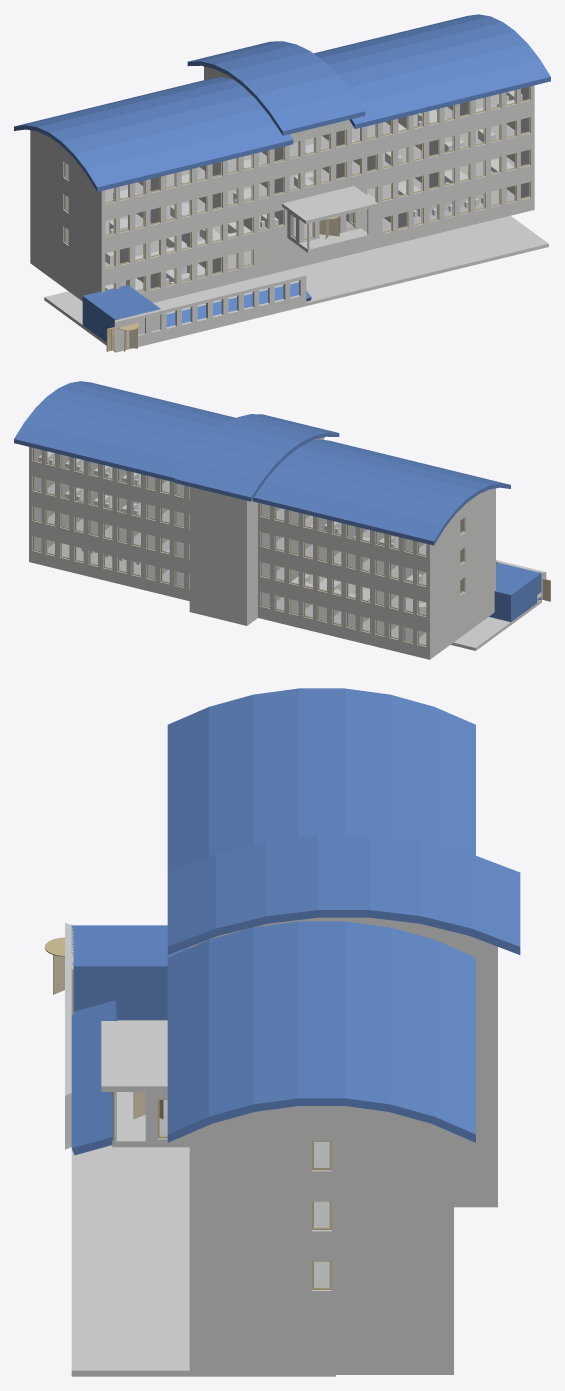
Rendered from hospital.dae.
3 views of the same model, one above another, from view 1: azimuth 30°, elevation 25°; view 2: azimuth 150°, elevation 25°; view 3: azimuth 270°, elevation 25° (orthographic). The views are drawn at different scales.
Visible parts, largest first — view 1: IfcSlabType/Stahlbeton 2747937872 300, IfcWallStandardCase/Wand-010.002, IfcWallStandardCase/Wand-010.001, IfcWallStandardCase/Wand-010.004, IfcSlab/Decke-001.001, IfcSlab/Dach-001.005, IfcSlab/Dach-001.018, IfcWallType/Kalksandstein 2816491304 300, IfcWallStandardCase/Wand-010, IfcSlab/Decke-001, IfcSlab/Decke-002.001, IfcSlab/Dach-001.004 (+26 smaller); view 2: IfcSlab/Dach-001.019, IfcSlab/Dach-001.012, IfcWallStandardCase/Wand-002.002, IfcWallStandardCase/Wand-002.001, IfcWallStandardCase/Wand-002, IfcWallStandardCase/Wand-006.002, IfcWallStandardCase/Wand-006.001, IfcWallStandardCase/Wand-006, IfcSlab/Dach-001, IfcSlab/Decke-002, IfcSlab/Dach-001.013, IfcSlab/Dach-001.001 (+30 smaller); view 3: IfcSlabType/Stahlbeton 2747937872 300, IfcWallStandardCase/Wand-007, IfcWallStandardCase/Wand-007.003, IfcWallStandardCase/Wand-007.002, IfcWallStandardCase/Wand-007.001, IfcSlab/Dach-001.015, IfcSpaceType/Büroarbeit, IfcSlab/Dach-001.014, IfcSlab/Dach-001.016, IfcSlab/Dach-001.017, IfcSlab/Dach-001.013, IfcSlab/Dach-001.018 (+30 smaller).
Part boxes in pixels (left/top/right/bottom): IfcSlabType/Stahlbeton 2747937872 300: left=44, top=216, right=548, bottom=352; IfcWallStandardCase/Wand-010.002: left=101, top=113, right=534, bottom=247; IfcWallStandardCase/Wand-010.001: left=101, top=177, right=534, bottom=300; IfcWallStandardCase/Wand-010.004: left=101, top=85, right=534, bottom=214; IfcSlab/Decke-001.001: left=30, top=124, right=534, bottom=250; IfcSlab/Dach-001.005: left=85, top=123, right=293, bottom=191; IfcSlab/Dach-001.018: left=349, top=59, right=550, bottom=128; IfcWallType/Kalksandstein 2816491304 300: left=116, top=275, right=306, bottom=349; IfcWallStandardCase/Wand-010: left=101, top=207, right=287, bottom=279; IfcSlab/Decke-001: left=30, top=157, right=534, bottom=282; IfcSlab/Decke-002.001: left=30, top=94, right=534, bottom=218; IfcSlab/Dach-001.004: left=73, top=108, right=274, bottom=172; IfcSlab/Dach-001.019: left=252, top=481, right=444, bottom=545; IfcSlab/Dach-001.012: left=14, top=422, right=185, bottom=482; IfcWallStandardCase/Wand-002.002: left=258, top=528, right=429, bottom=596; IfcWallStandardCase/Wand-002.001: left=258, top=558, right=429, bottom=626; IfcWallStandardCase/Wand-002: left=258, top=588, right=429, bottom=656; IfcWallStandardCase/Wand-006.002: left=29, top=472, right=189, bottom=538; IfcWallStandardCase/Wand-006.001: left=29, top=502, right=189, bottom=568; IfcWallStandardCase/Wand-006: left=29, top=532, right=189, bottom=597; IfcSlab/Dach-001: left=265, top=467, right=455, bottom=527; IfcSlab/Decke-002: left=29, top=543, right=494, bottom=659; IfcSlab/Dach-001.013: left=25, top=408, right=197, bottom=461; IfcSlab/Dach-001.001: left=277, top=455, right=466, bottom=513; IfcSlabType/Stahlbeton 2747937872 300: left=71, top=1020, right=335, bottom=1376; IfcWallStandardCase/Wand-007: left=189, top=1315, right=453, bottom=1368; IfcWallStandardCase/Wand-007.003: left=189, top=1135, right=453, bottom=1189; IfcWallStandardCase/Wand-007.002: left=189, top=1195, right=453, bottom=1249; IfcWallStandardCase/Wand-007.001: left=189, top=1255, right=453, bottom=1308; IfcSlab/Dach-001.015: left=298, top=921, right=344, bottom=1105; IfcSpaceType/Büroarbeit: left=71, top=925, right=189, bottom=1020; IfcSlab/Dach-001.014: left=344, top=921, right=390, bottom=1111; IfcSlab/Dach-001.016: left=253, top=921, right=299, bottom=1111; IfcSlab/Dach-001.017: left=209, top=927, right=254, bottom=1123; IfcSlab/Dach-001.013: left=388, top=927, right=434, bottom=1123; IfcSlab/Dach-001.018: left=167, top=940, right=211, bottom=1142.
Bounding box in the file's own units: 45.61 × 21.57 × 16.23.
